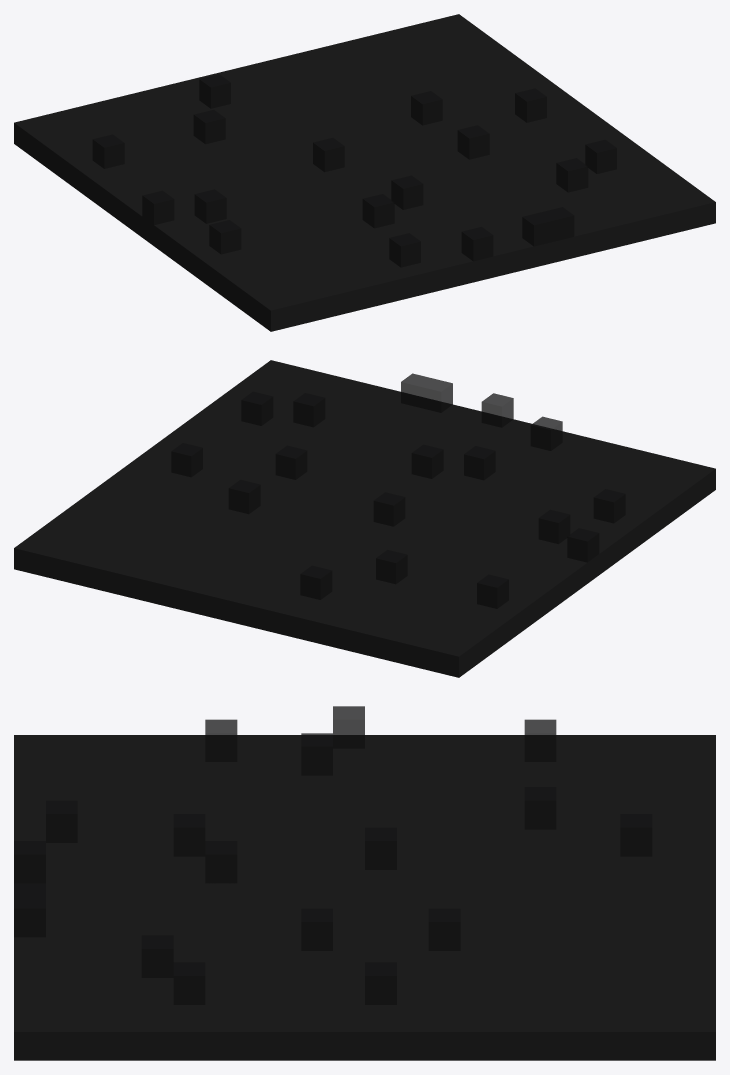
File: setpiece_GooBossRoom.GooNest_alpha.glb
The picture shows the model from 3 angles, top to bottom: view 1: azimuth 30°, elevation 25°; view 2: azimuth 150°, elevation 25°; view 3: azimuth 270°, elevation 25°; orthographic projection. The views are drawn at different scales.
Visible parts, largest first — view 1: GooNest_1, GooNest_3, GooNest_4, GooNest_0, GooNest_5, GooNest_2, GooNest_7, GooNest_6, GooNest_8; view 2: GooNest_4, GooNest_1, GooNest_3, GooNest_5, GooNest_7, GooNest_0, GooNest_6, GooNest_2, GooNest_8; view 3: GooNest_1, GooNest_4, GooNest_3, GooNest_5, GooNest_0, GooNest_8, GooNest_2, GooNest_7, GooNest_6.
Part boxes in pixels (box(x1,y1,x2,y2)): GooNest_1: box(73, 46, 715, 331); GooNest_3: box(60, 14, 715, 296); GooNest_4: box(14, 14, 713, 330); GooNest_0: box(351, 91, 715, 306); GooNest_5: box(14, 34, 567, 330); GooNest_2: box(119, 179, 614, 331); GooNest_7: box(14, 18, 644, 250); GooNest_6: box(160, 14, 645, 201); GooNest_8: box(27, 51, 378, 262); GooNest_4: box(14, 361, 715, 677); GooNest_1: box(74, 360, 715, 634); GooNest_3: box(14, 360, 572, 657); GooNest_5: box(61, 407, 713, 677); GooNest_7: box(20, 425, 645, 677); GooNest_0: box(120, 360, 613, 491); GooNest_6: box(14, 409, 391, 642); GooNest_2: box(360, 387, 715, 600); GooNest_8: box(159, 487, 645, 675); GooNest_1: box(14, 735, 652, 1060); GooNest_4: box(14, 719, 715, 1060); GooNest_3: box(14, 735, 715, 1060); GooNest_5: box(14, 706, 715, 1059); GooNest_0: box(14, 802, 428, 1060); GooNest_8: box(142, 749, 715, 936); GooNest_2: box(14, 735, 428, 964); GooNest_7: box(174, 735, 715, 1059); GooNest_6: box(174, 829, 715, 1060).
Bounding box in the file's own units: 1 × 0.0909 × 1.
9 materials, 9 textured.
